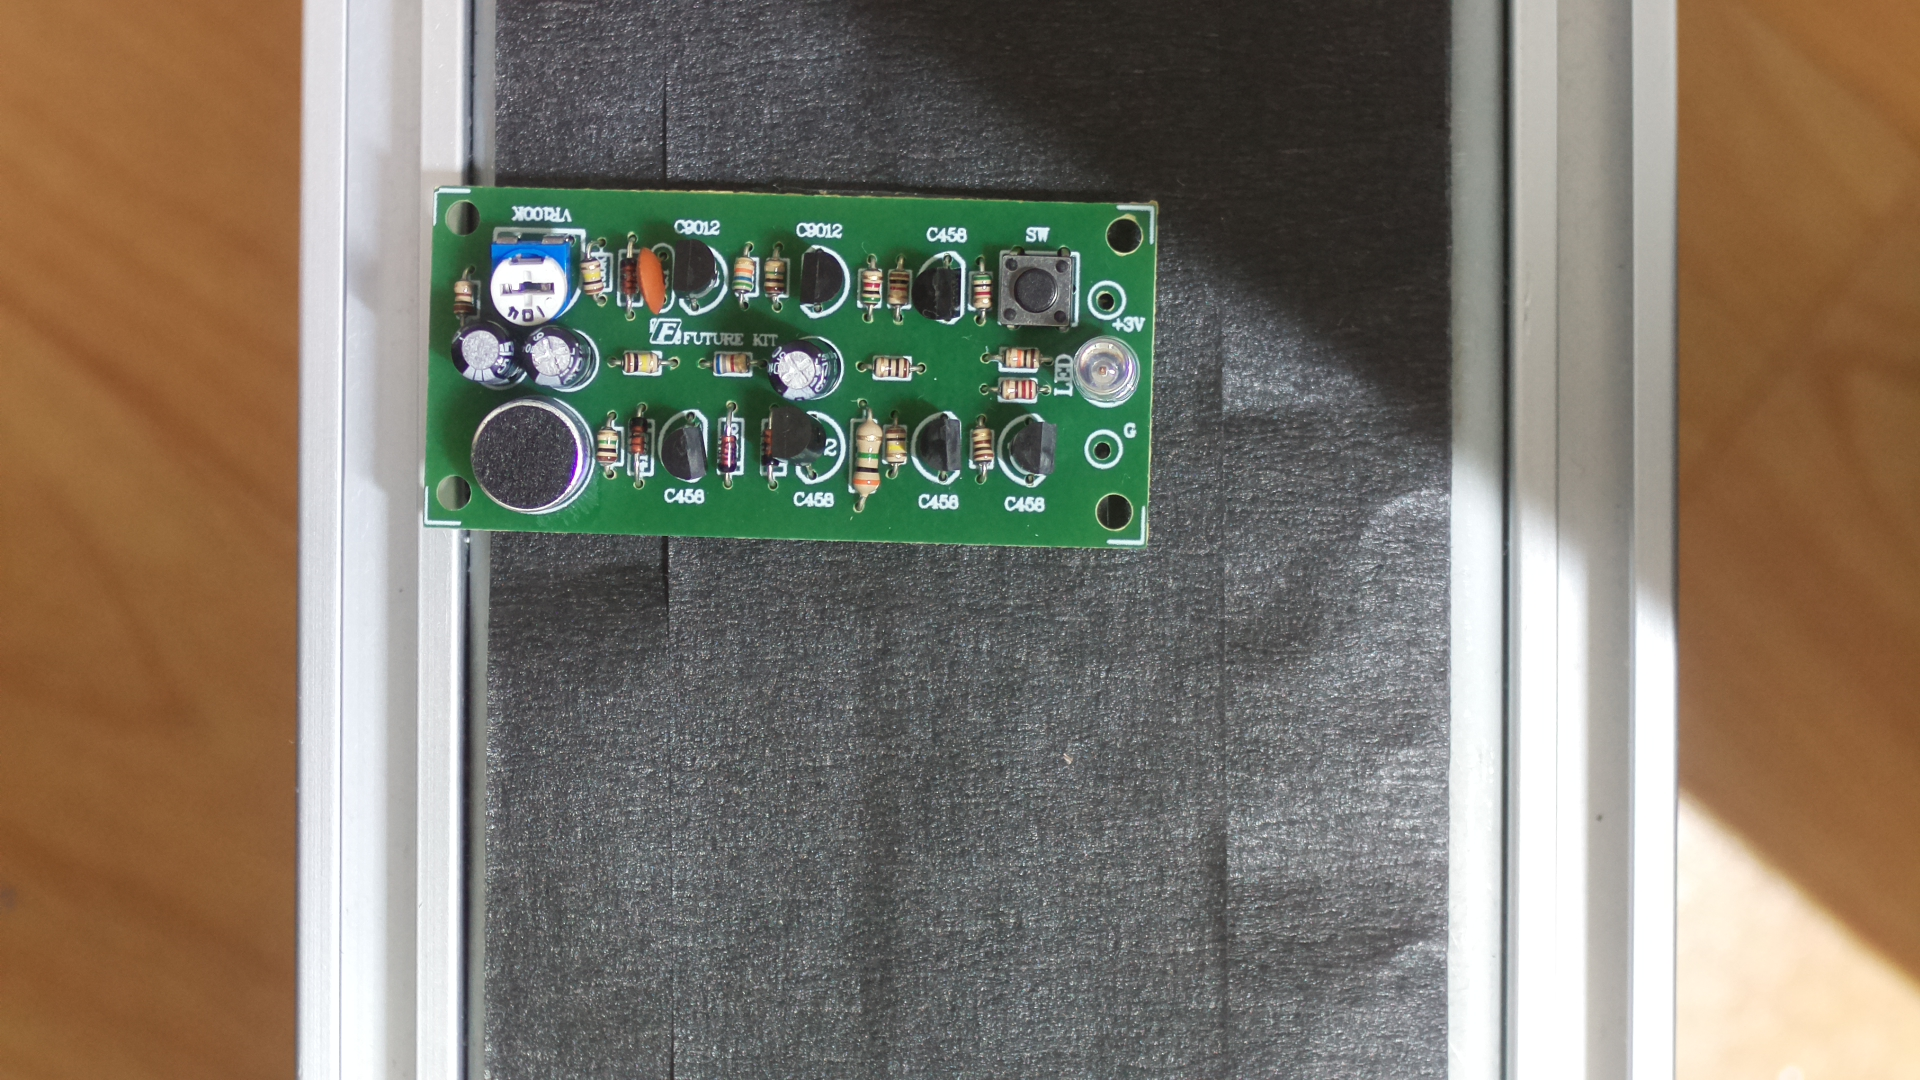A_Normal: (430, 177, 1159, 571)
